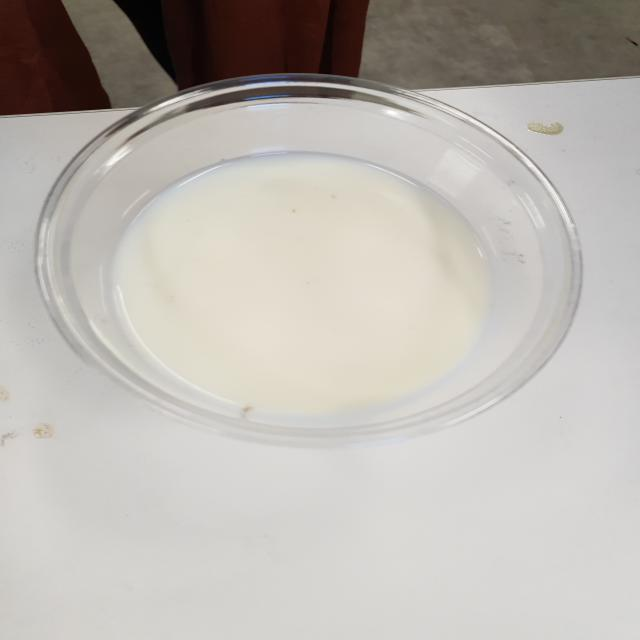Milk: (37, 54, 610, 464)
